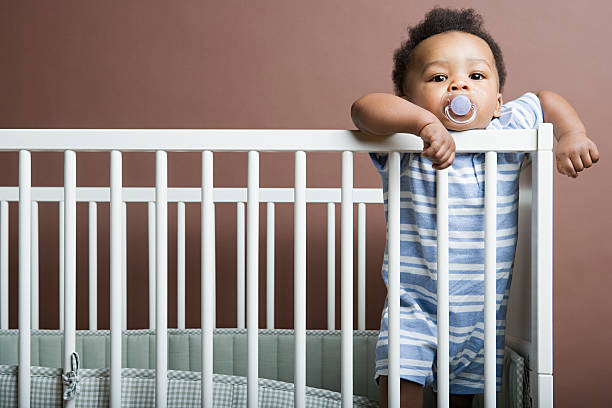baby: (351, 7, 598, 406)
crib: (0, 129, 422, 406)
